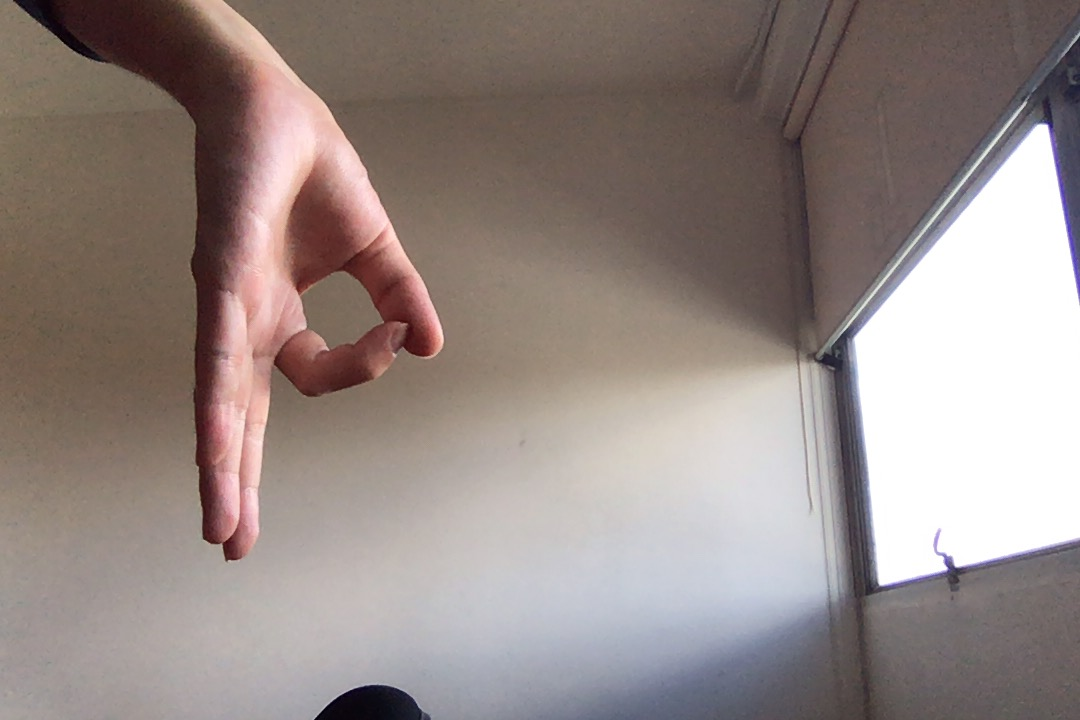oksign: (180, 89, 451, 566)
